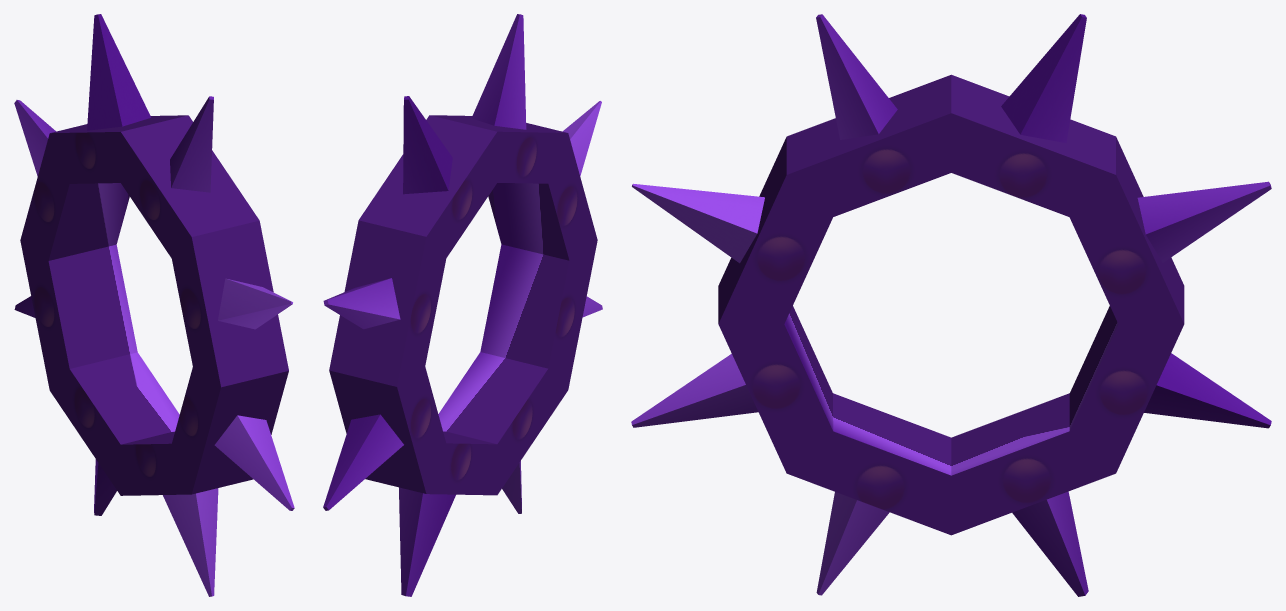
Rendered from Oshijnik.fbx.
3 views of the same model, side by side, from view 1: azimuth 30°, elevation 25°; view 2: azimuth 150°, elevation 25°; view 3: azimuth 270°, elevation 25° (orthographic). The views are drawn at different scales.
Parts seen in each view (by area): view 1: Cylinder.001; view 2: Cylinder.001; view 3: Cylinder.001.
Part boxes in pixels (x1,y1,x2,y2): Cylinder.001: (14,14,294,596); Cylinder.001: (323,14,602,596); Cylinder.001: (631,14,1271,596).
Bounding box in the file's own units: 39.07 × 275 × 275.
